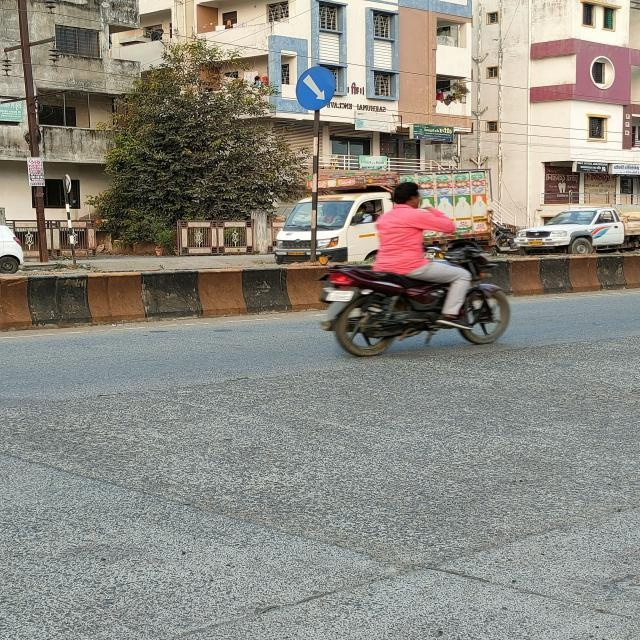R.301e: (287, 62, 339, 115)
